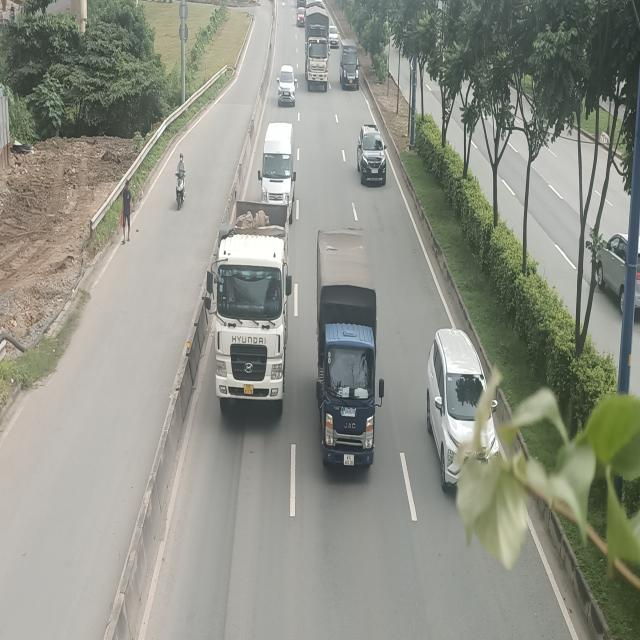car: (426, 328, 497, 492), (357, 125, 387, 182), (276, 64, 298, 106)
container: (203, 202, 292, 414)
truck: (315, 227, 384, 470), (305, 0, 330, 92)
van: (258, 123, 295, 218), (340, 40, 360, 89)
